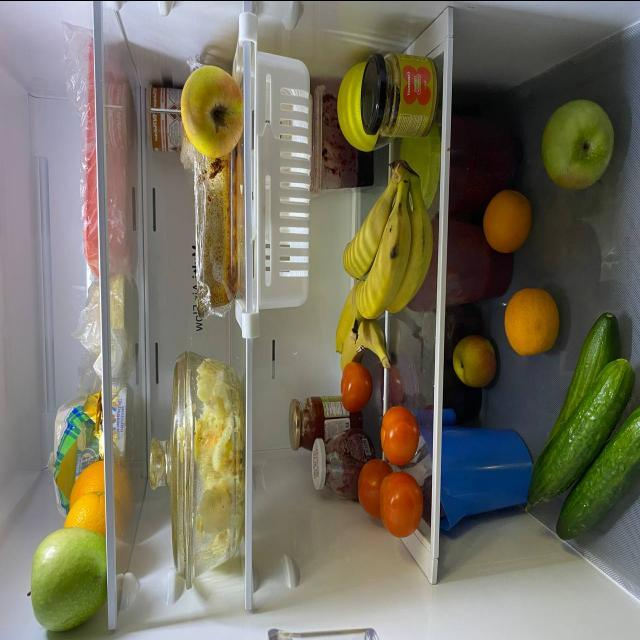Apple: (31, 526, 107, 630), (542, 90, 617, 194), (182, 59, 243, 158), (454, 338, 494, 390)
Banana: (343, 162, 433, 322), (325, 296, 390, 364)
Cucumber: (527, 361, 633, 503), (552, 398, 640, 542), (555, 315, 615, 432)
Orange: (507, 287, 558, 353), (485, 188, 533, 252), (66, 462, 107, 506), (64, 491, 104, 528)
Tomato: (380, 470, 421, 536), (339, 356, 374, 418), (382, 408, 415, 464), (360, 452, 382, 522)
